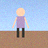person: (12, 8, 28, 37)
